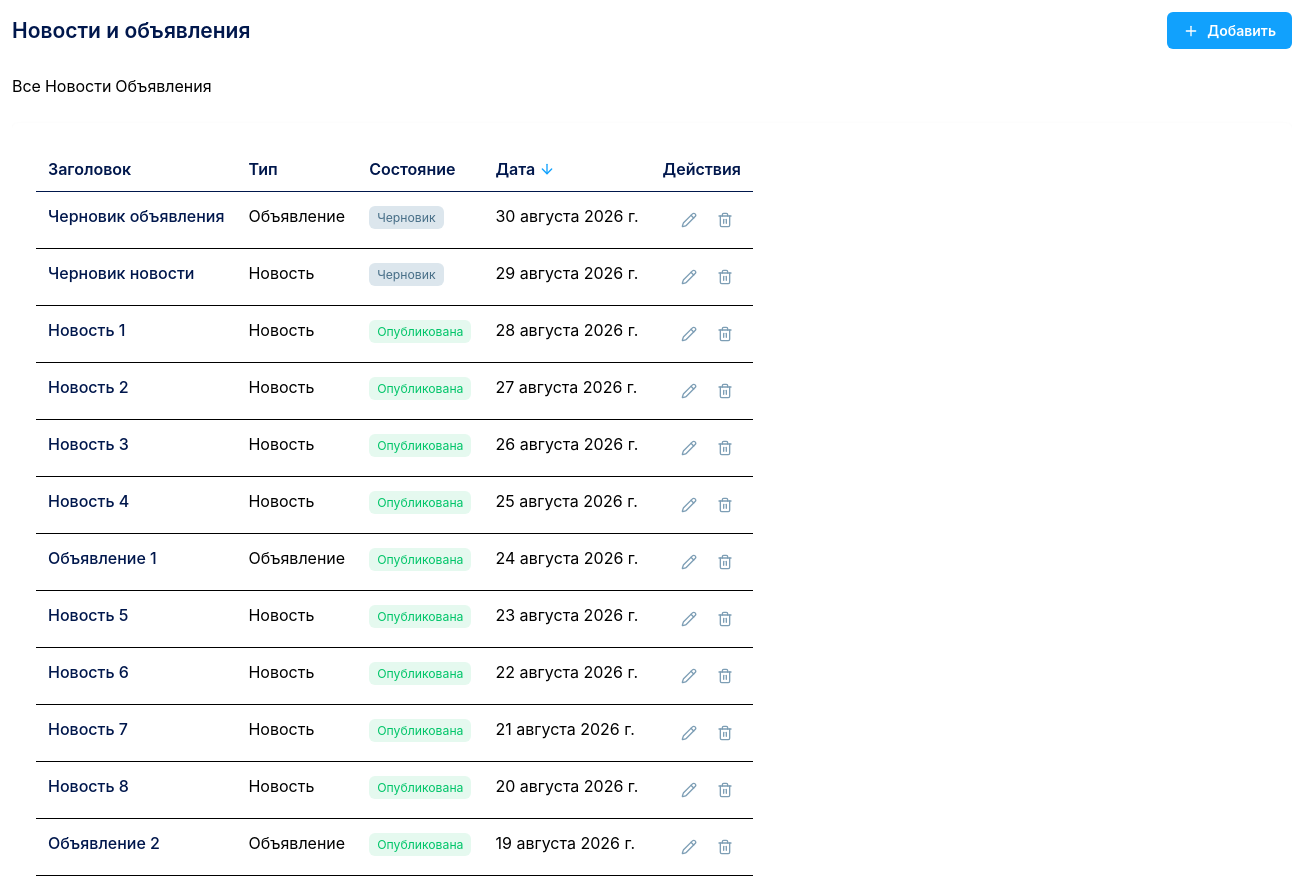
Test: AdminNewsPage, список › меняет порядок кликом по заголовку даты
Click the button "Дата".
click(525, 169)  # box [496, 157, 555, 181]
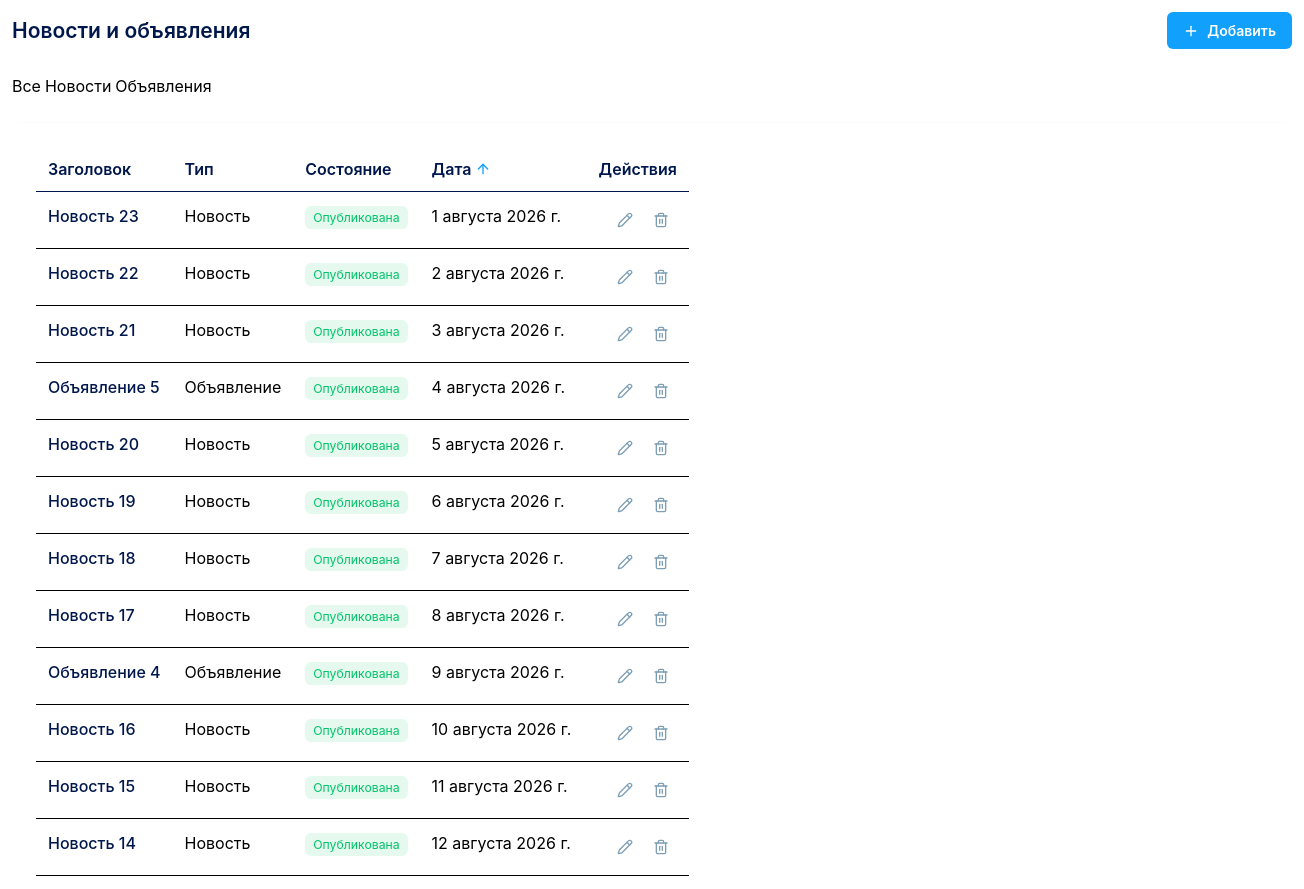
Result: the cell "Новость 23" is shown at [36, 192, 173, 248]
